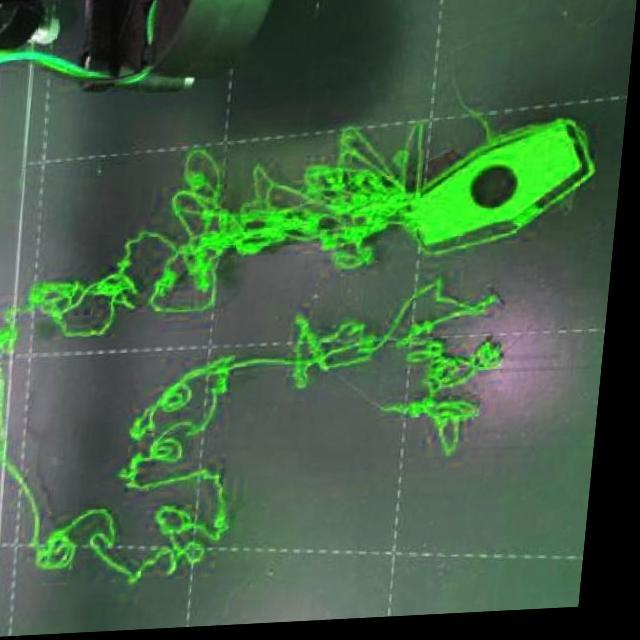spaghetti: (0, 104, 535, 599)
